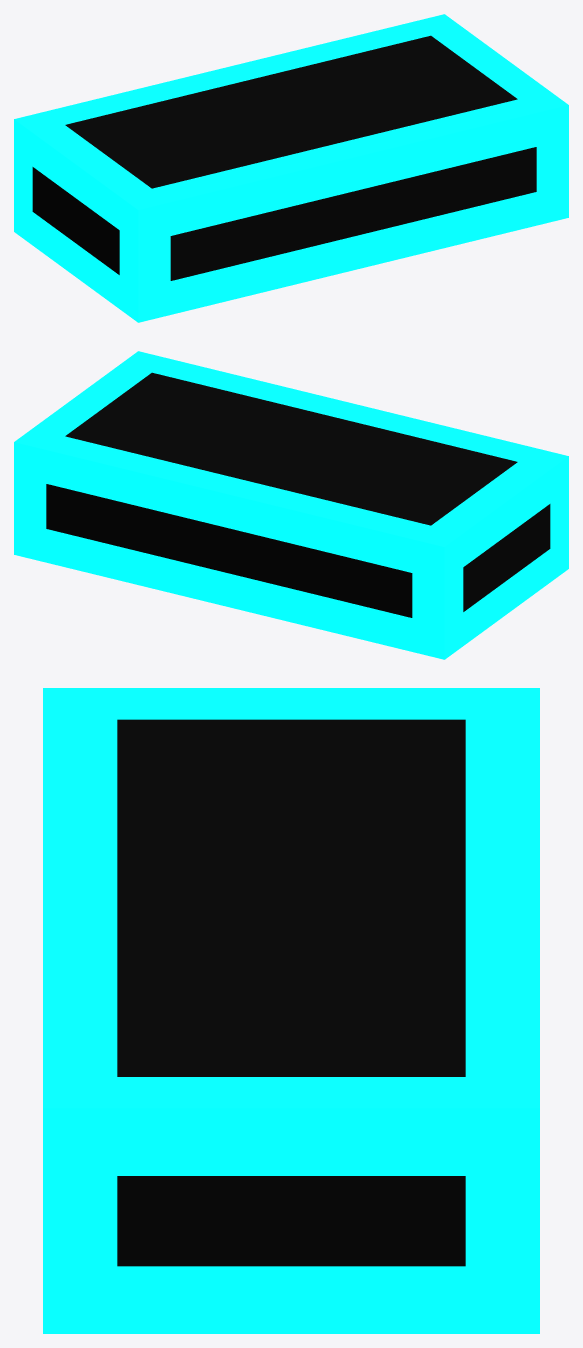
Rendered from WallTile.fbx.
3 renders of one model, top to bottom at view 1: azimuth 30°, elevation 25°; view 2: azimuth 150°, elevation 25°; view 3: azimuth 270°, elevation 25°, orthographic. The views are drawn at different scales.
Visible parts, largest first — view 1: WallTile; view 2: WallTile; view 3: WallTile.
Part boxes in pixels (left/top/right/bottom): WallTile: left=14, top=14, right=568, bottom=322; WallTile: left=14, top=351, right=568, bottom=659; WallTile: left=43, top=688, right=539, bottom=1333.
Bounding box in the file's own units: 400 × 100 × 200.
